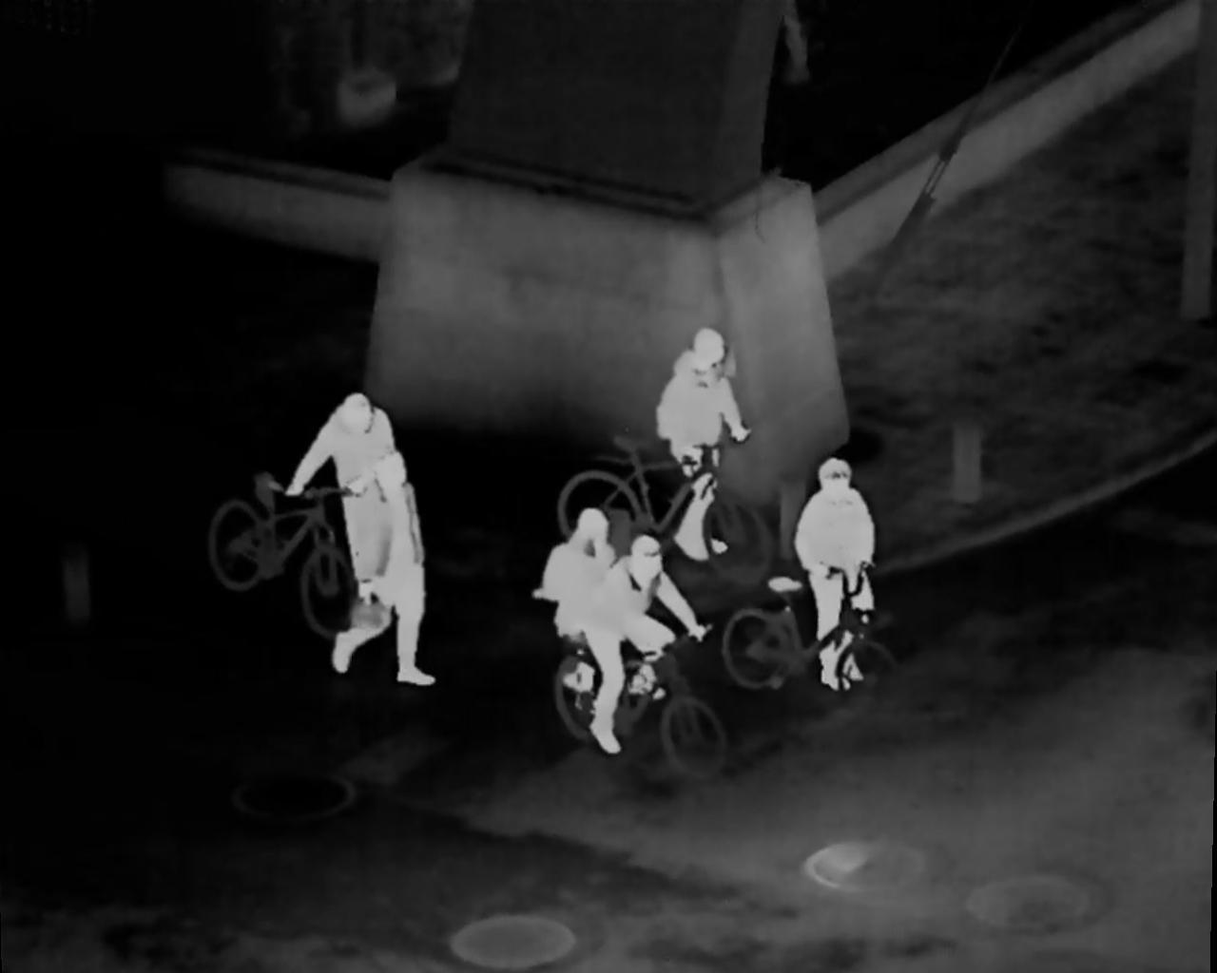person: (290, 385, 412, 606), (578, 534, 703, 745), (338, 455, 440, 682), (658, 326, 753, 564), (794, 456, 879, 695), (539, 506, 633, 652)
